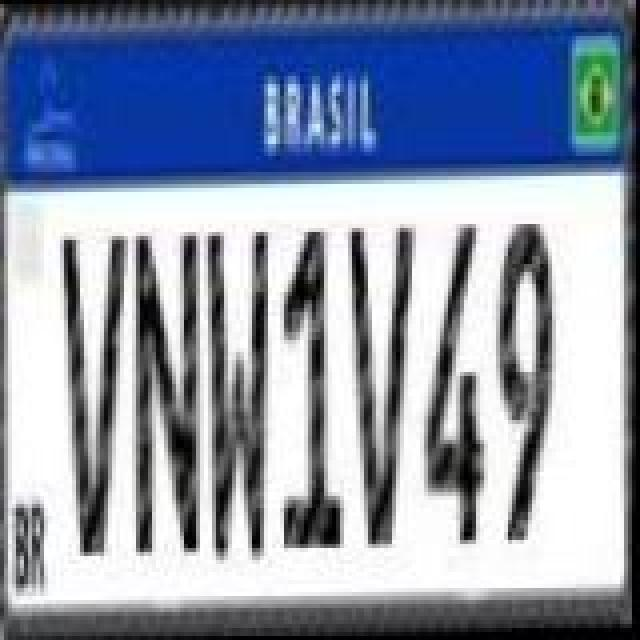1: (276, 220, 352, 556)
4: (420, 222, 488, 546)
9: (490, 214, 562, 550)
N: (132, 224, 208, 560)
V: (60, 226, 136, 562), (350, 224, 422, 548)
W: (200, 232, 276, 568)
